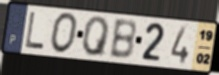2: (139, 22, 166, 63)
4: (169, 24, 191, 65)
B: (108, 18, 138, 61)
L: (24, 11, 46, 51)
O: (50, 11, 80, 55)
Q: (81, 16, 112, 58)
